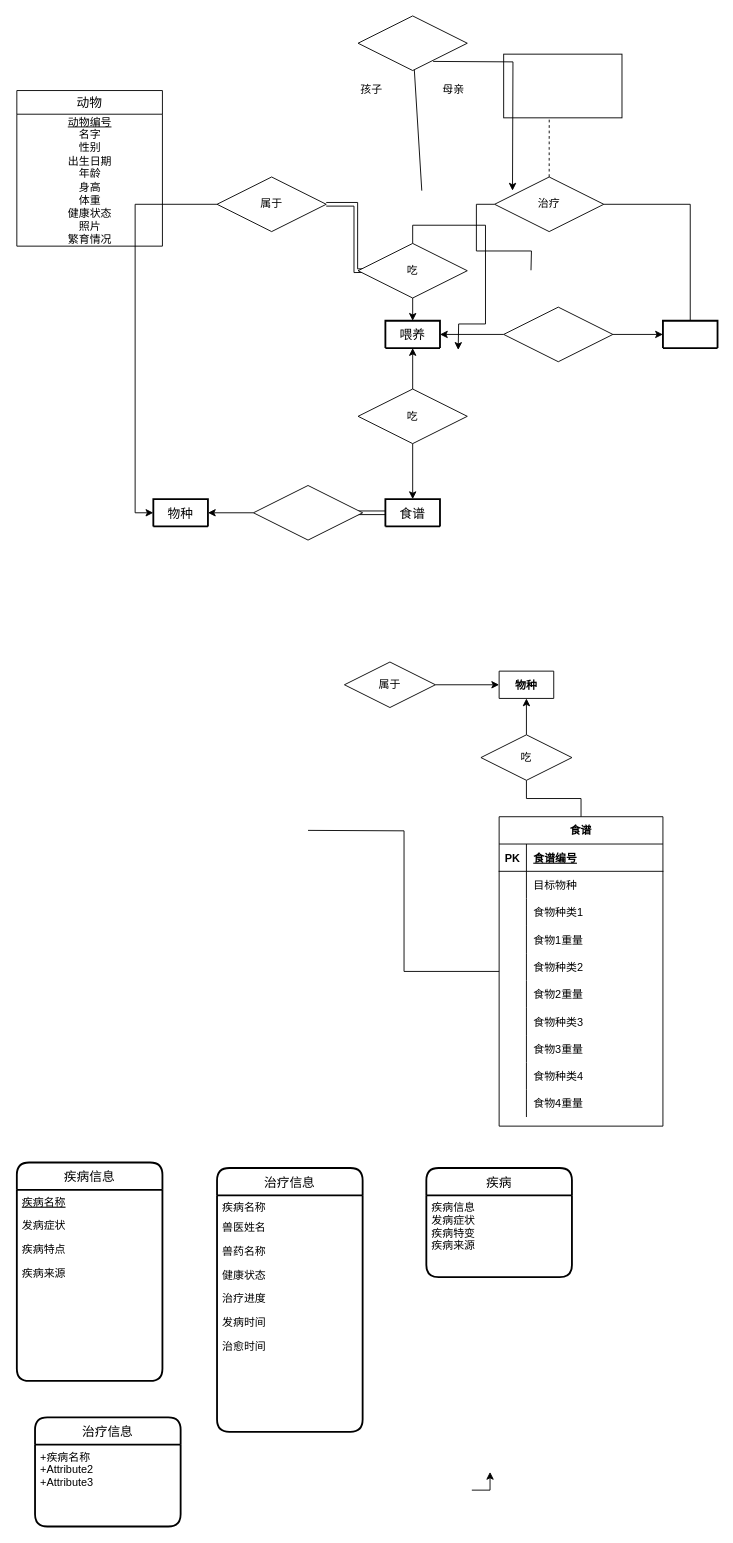
Image size: 733x1543. Some labels were removed from this diagram. Here are the shapes that lost their labels. From the top down, the centre of each, then its label:
[412,43]: 母子
[562,85]: 疾病名称 发现时间 药物 治疗状态 治愈TAG
[558,334]: 负责
[690,334]: 员工
[308,512]: 设计
